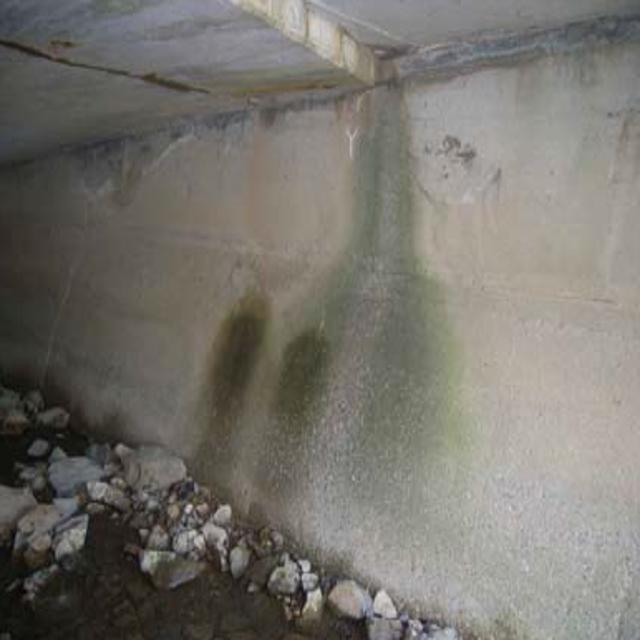leakage: (188, 291, 328, 523), (340, 90, 460, 301)
